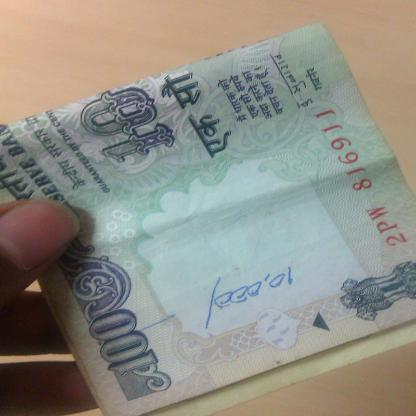Old100Front: (0, 18, 415, 415)
